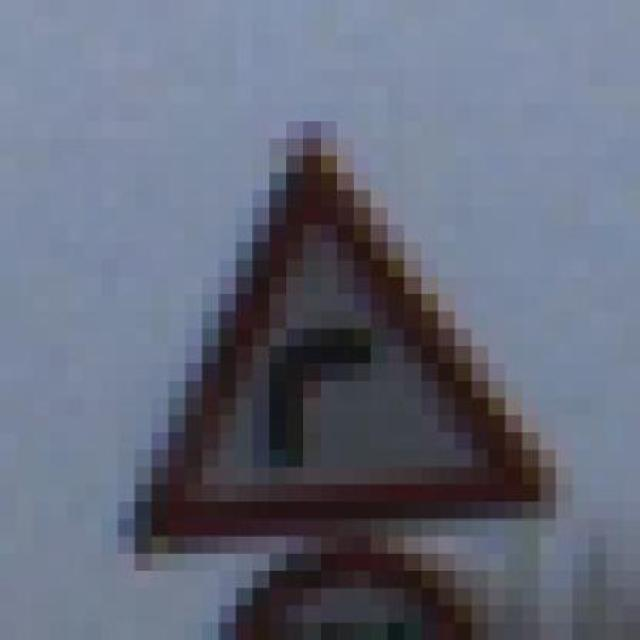Dangerous Rright Curve Ahead: (67, 121, 607, 553)
